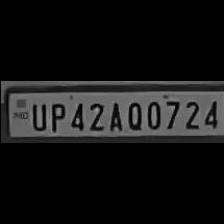0: (144, 98, 162, 130)
2: (86, 99, 104, 131), (180, 98, 198, 130)
4: (66, 99, 86, 131), (200, 97, 218, 129)
7: (162, 96, 178, 130)
A: (104, 97, 122, 130)
P: (46, 100, 64, 132)
Q: (124, 97, 142, 130)
U: (27, 100, 46, 132)
